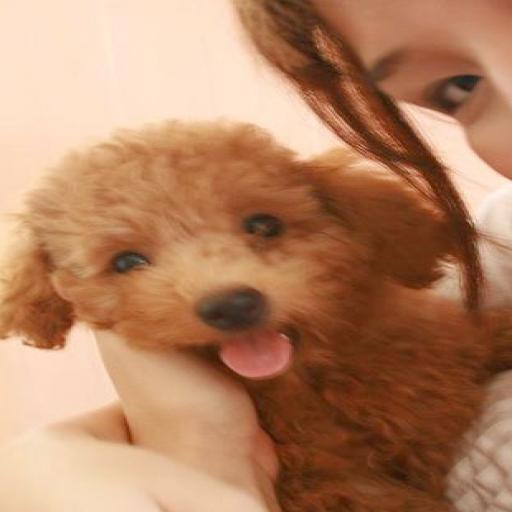dog_face: (0, 131, 423, 380)
